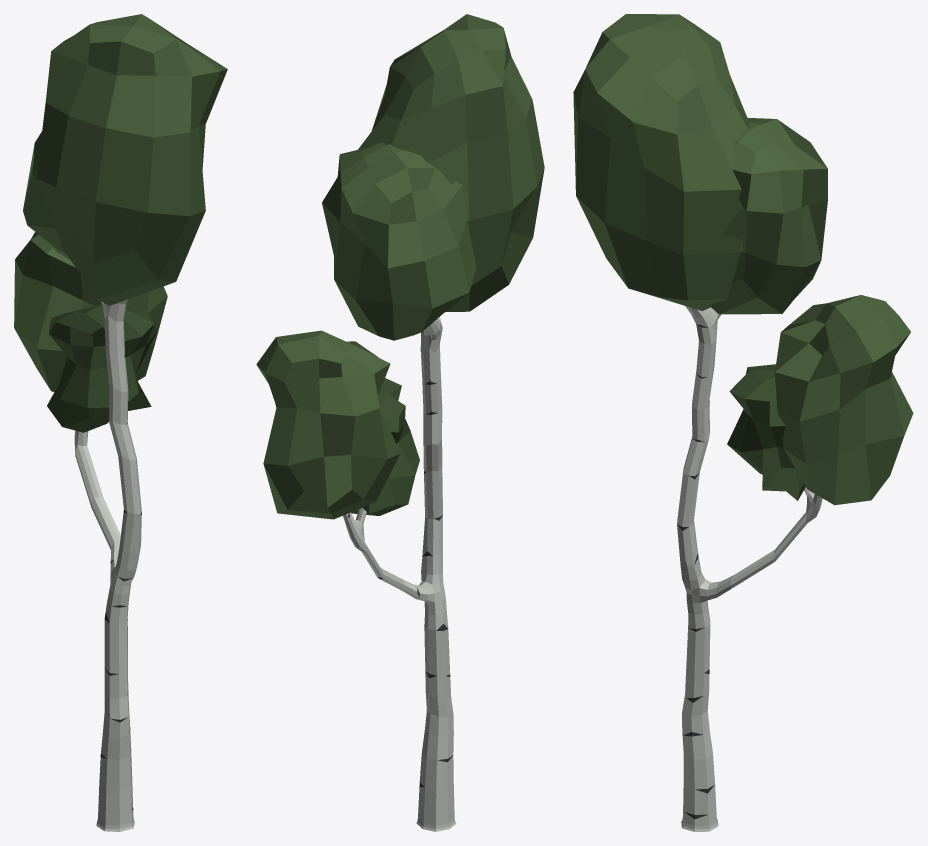
The model's file is BirchTree_5.glb.
3 renders of one model, left to right at view 1: azimuth 30°, elevation 25°; view 2: azimuth 150°, elevation 25°; view 3: azimuth 270°, elevation 25°, orthographic. The views are drawn at different scales.
Visible parts, largest first — view 1: BirchTree_5; view 2: BirchTree_5; view 3: BirchTree_5.
Boxes of the visible parts, x1,y1,x2,y2 form: BirchTree_5: (14,14,227,831); BirchTree_5: (256,14,544,831); BirchTree_5: (573,14,913,831).
Bounding box in the file's own units: 0.4749 × 2 × 0.7734.
